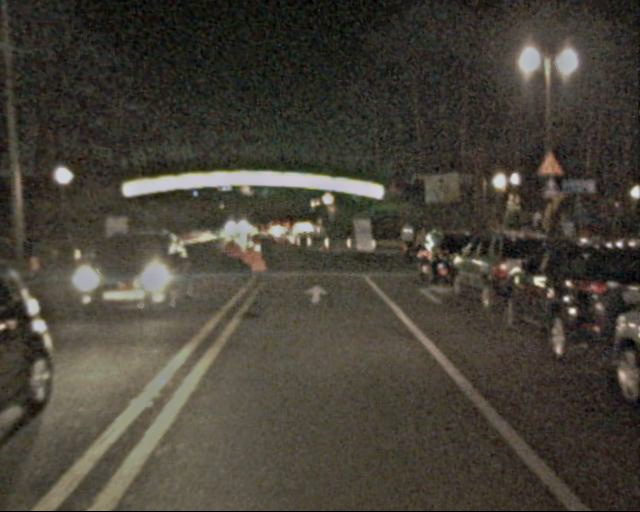person: (415, 228, 433, 271), (399, 222, 416, 264)
